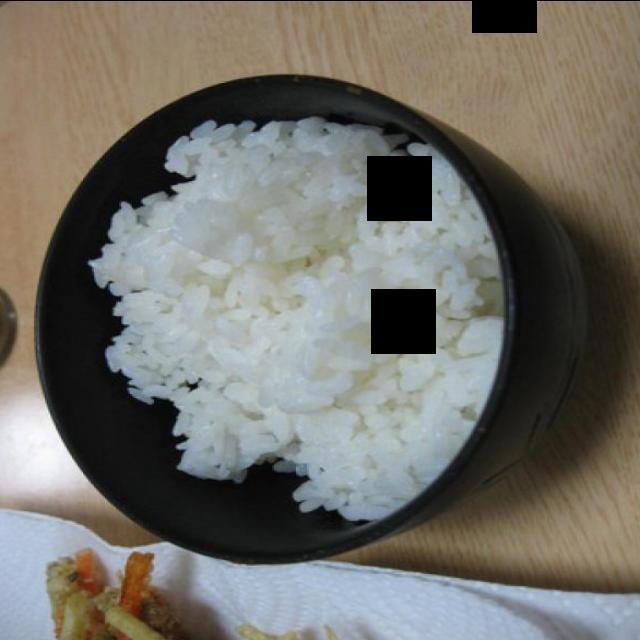Chicken -Chicken Inasal-: (101, 120, 501, 517)
